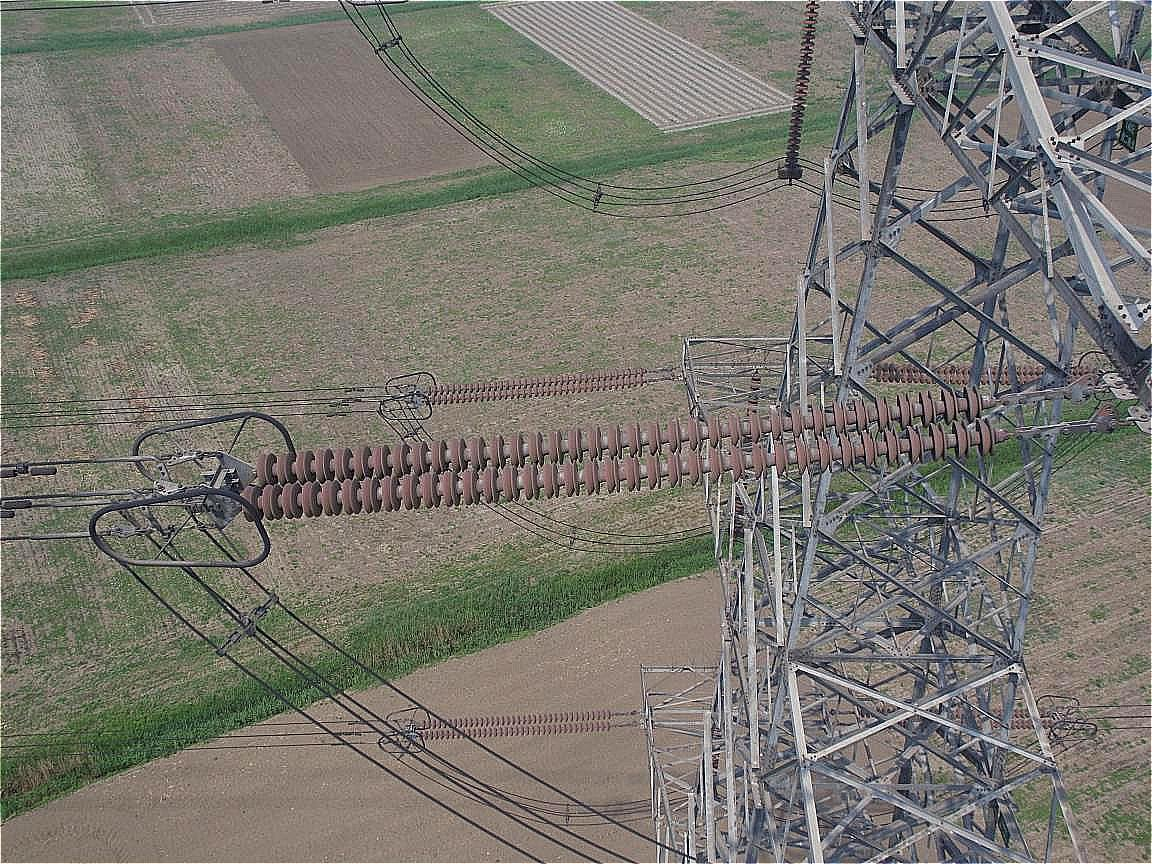insultor1: (406, 362, 655, 409), (411, 708, 630, 749)
insultor2: (217, 380, 1025, 519)
